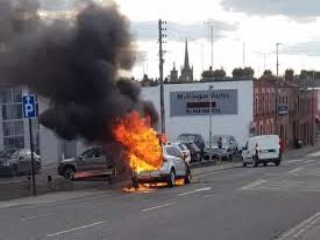fire: (114, 115, 167, 175)
smoke: (21, 18, 140, 140)
